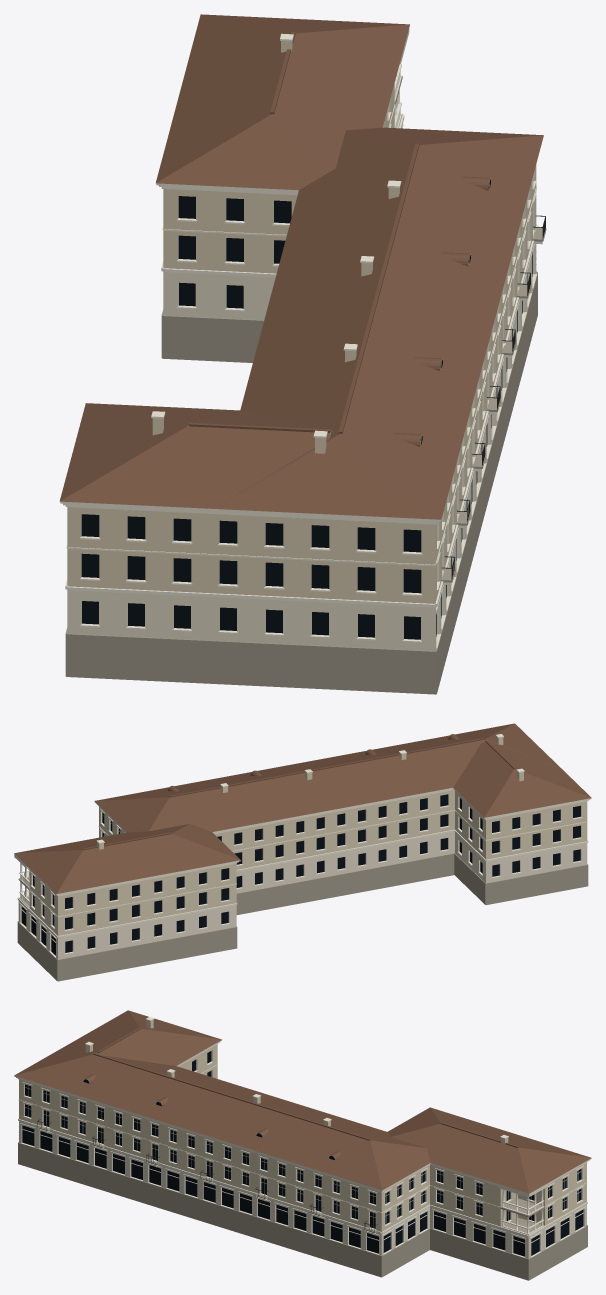
Rendered from gen_petrova2.glb.
3 renders of one model, top to bottom at view 1: azimuth 30°, elevation 25°; view 2: azimuth 150°, elevation 25°; view 3: azimuth 270°, elevation 25°, orthographic. The views are drawn at different scales.
Visible parts, largest first — view 1: gen_petrova2_roof, gen_petrova2_wall, gen_petrova2_stone, gen_petrova2_trim, gen_petrova2_wall3, gen_petrova2_glass; view 2: gen_petrova2_roof, gen_petrova2_wall, gen_petrova2_stone, gen_petrova2_wall3, gen_petrova2_trim, gen_petrova2_glass; view 3: gen_petrova2_roof, gen_petrova2_wall, gen_petrova2_trim, gen_petrova2_stone, gen_petrova2_glass, gen_petrova2_wall3, gen_petrova2_wall2, gen_petrova2_trim_s.
Boxes of the visible parts, x1,y1,x2,y2 form: gen_petrova2_roof: (59,14,543,519); gen_petrova2_wall: (67,41,536,603); gen_petrova2_stone: (65,76,546,694); gen_petrova2_trim: (60,28,542,648); gen_petrova2_wall3: (67,244,536,650); gen_petrova2_glass: (81,179,532,639); gen_petrova2_roof: (14,723,591,893); gen_petrova2_wall: (29,737,587,935); gen_petrova2_stone: (17,853,588,981); gen_petrova2_wall3: (18,831,587,959); gen_petrova2_trim: (14,734,591,957); gen_petrova2_glass: (21,794,580,955); gen_petrova2_roof: (14,1010,591,1193); gen_petrova2_wall: (19,1020,586,1231); gen_petrova2_trim: (14,1017,591,1257); gen_petrova2_stone: (18,1125,587,1280); gen_petrova2_glass: (22,1051,583,1256); gen_petrova2_wall3: (19,1121,586,1258); gen_petrova2_wall2: (19,1126,586,1258); gen_petrova2_trim_s: (502,1189,543,1233).
Size of the model in its own units: 62.58 by 17.44 by 83.32.
